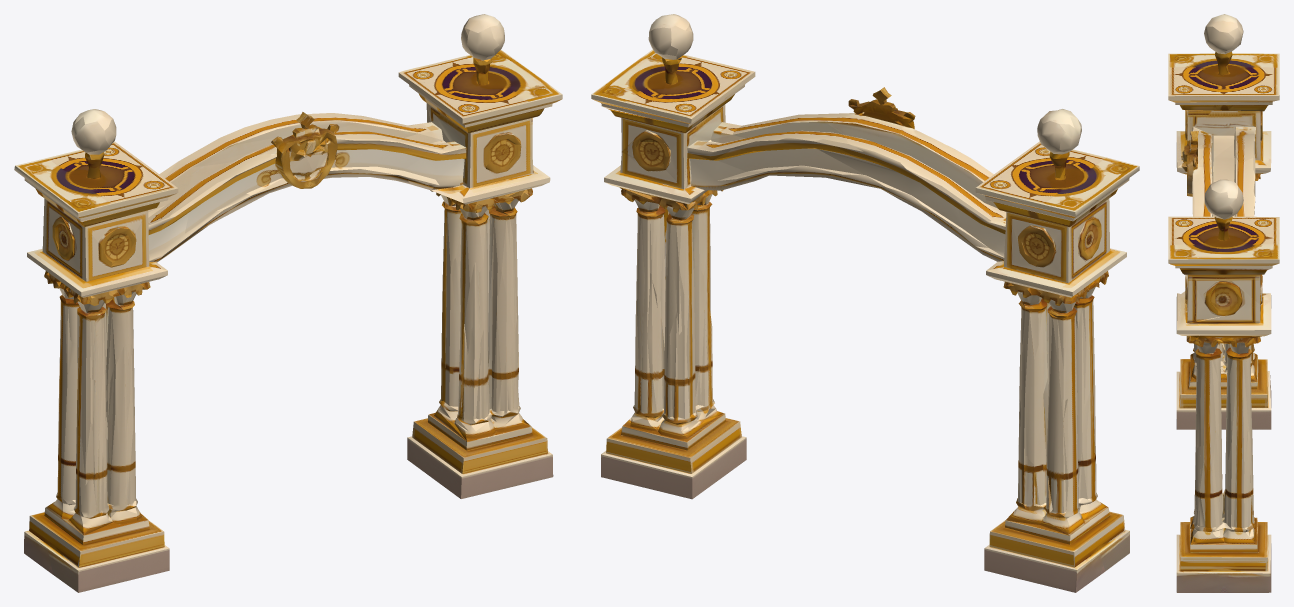
The model's file is gate.glb.
3 renders of one model, left to right at view 1: azimuth 30°, elevation 25°; view 2: azimuth 150°, elevation 25°; view 3: azimuth 270°, elevation 25°, orthographic. The views are drawn at different scales.
Bounding box in the file's own units: 1.9 × 1.69 × 0.4339.
Materials: 1 (1 with a texture image).
